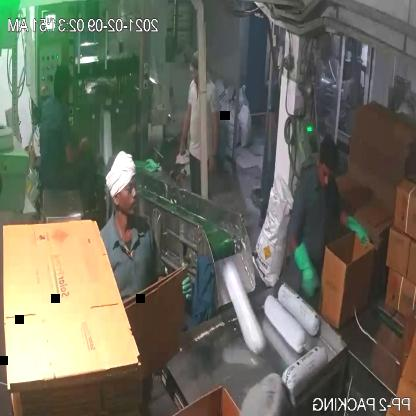glove: (290, 228, 327, 304), (336, 210, 377, 256)
no_glove: (56, 119, 98, 172), (204, 101, 228, 180), (178, 92, 193, 169), (267, 102, 282, 157)
